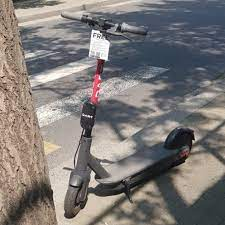kick_board: (60, 12, 194, 216)
kick_handler: (61, 11, 148, 44)
kick_neck: (78, 37, 106, 167)
kick_wheel: (65, 178, 88, 218), (169, 128, 194, 161)
